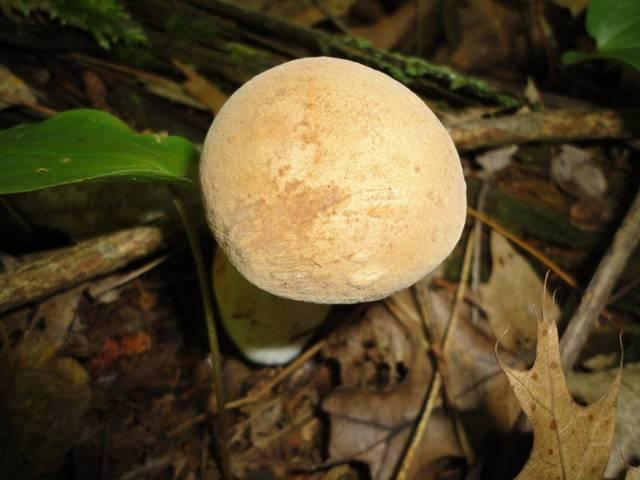Edible Mushroom: (197, 54, 468, 365)
